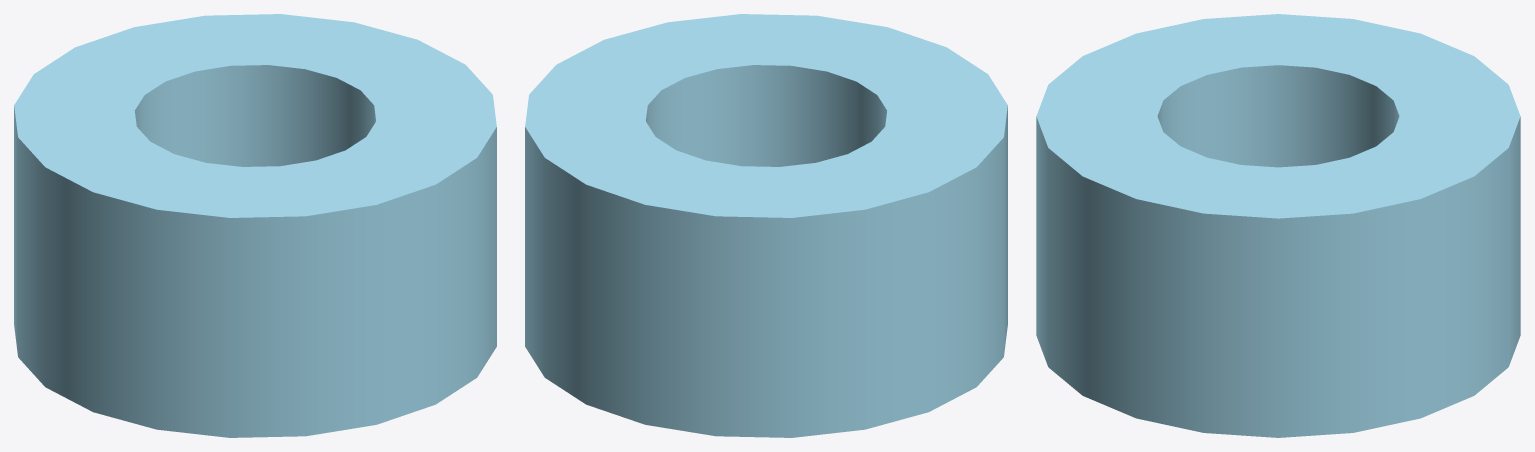
The model's file is toast.dae.
3 renders of one model, left to right at view 1: azimuth 30°, elevation 25°; view 2: azimuth 150°, elevation 25°; view 3: azimuth 270°, elevation 25°, orthographic.
Visible parts, largest first — view 1: pPipe1; view 2: pPipe1; view 3: pPipe1.
Part boxes in pixels (<box>): pPipe1: <box>14,14,496,437</box>; pPipe1: <box>525,14,1007,437</box>; pPipe1: <box>1036,14,1520,437</box>.
Size of the model in its own units: 2 by 1 by 2.
